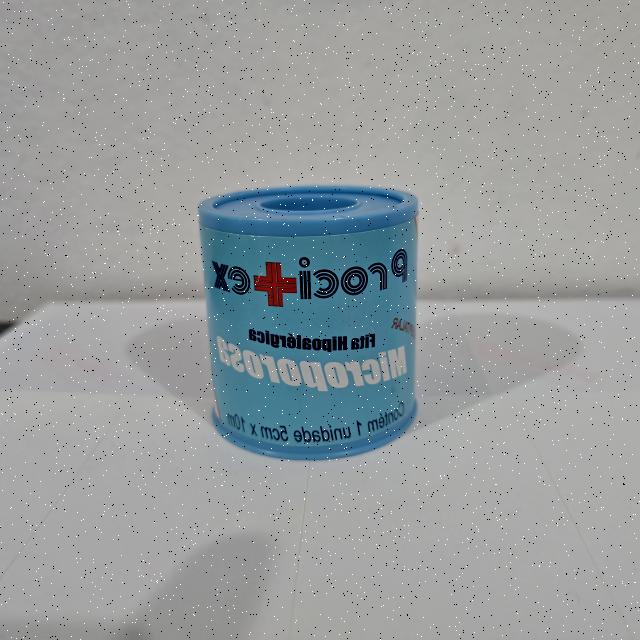procitex: (194, 180, 422, 464)
